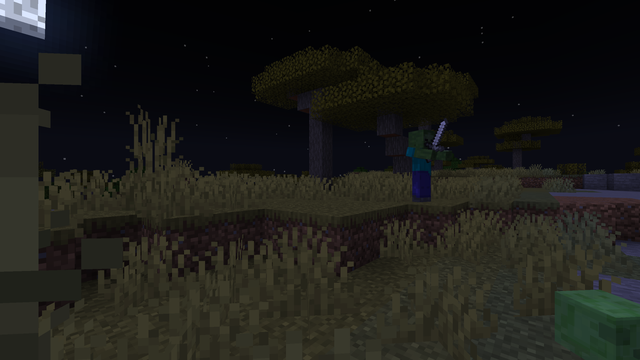slimes: (565, 283, 637, 358)
zombies: (407, 130, 435, 202)
